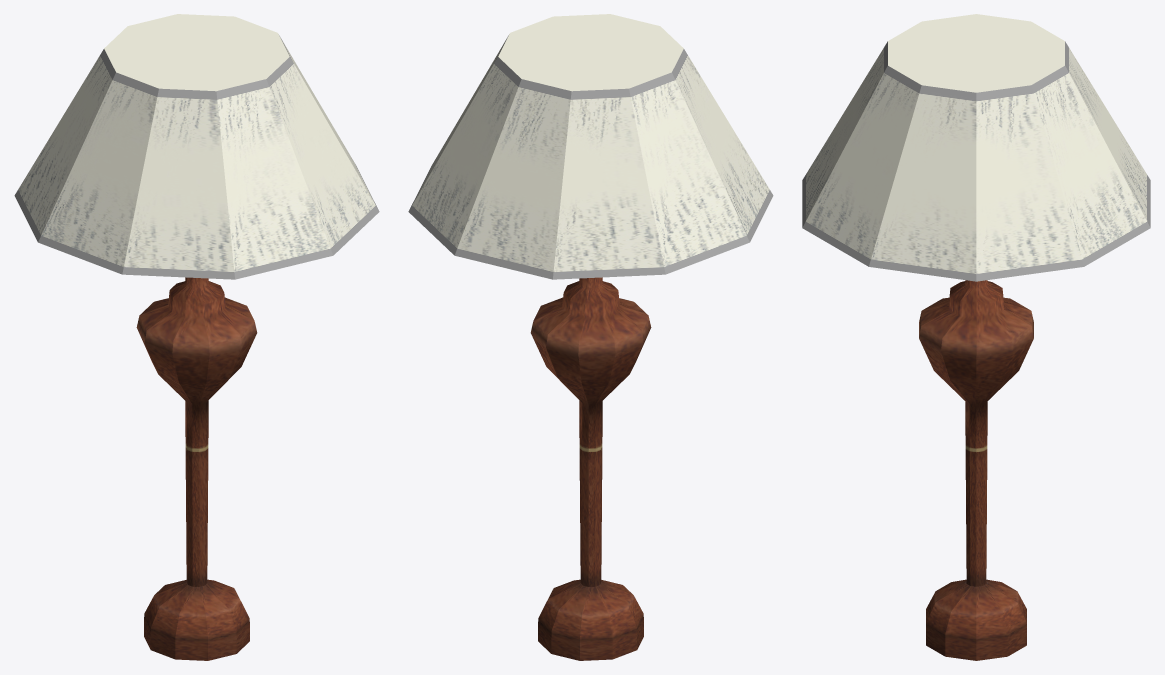
File: Lamp03.fbx
The picture shows the model from 3 angles, left to right: view 1: azimuth 30°, elevation 25°; view 2: azimuth 150°, elevation 25°; view 3: azimuth 270°, elevation 25°; orthographic projection.
Visible parts, largest first — view 1: Lamp03; view 2: Lamp03; view 3: Lamp03.
Boxes of the visible parts, left/top/right/bottom form: Lamp03: left=14, top=14, right=379, bottom=660; Lamp03: left=408, top=14, right=773, bottom=660; Lamp03: left=802, top=14, right=1150, bottom=660.
Bounding box in the file's own units: 6.02 × 10.62 × 5.73.
Materials: 2 (2 with a texture image).
